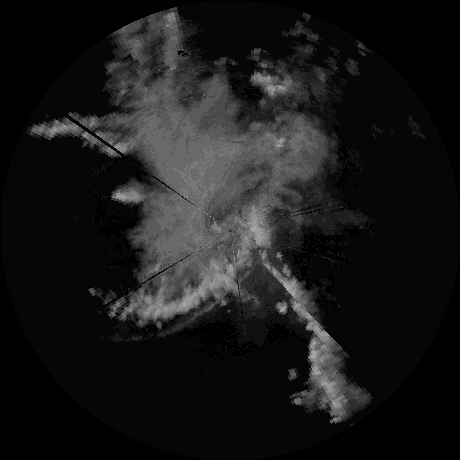frontgust: (112, 303, 217, 342), (236, 259, 262, 285)
